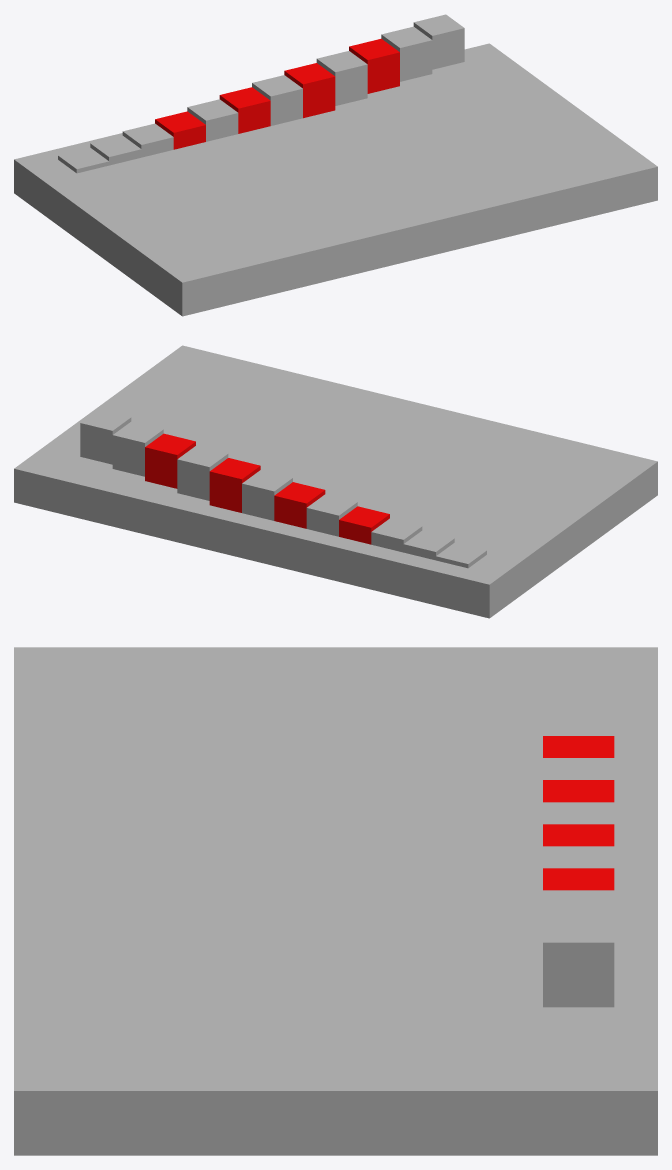
File: jump gym.glb
3 renders of one model, top to bottom at view 1: azimuth 30°, elevation 25°; view 2: azimuth 150°, elevation 25°; view 3: azimuth 270°, elevation 25°, orthographic. The views are drawn at different scales.
Parts seen in each view (by area): view 1: Cube; view 2: Cube; view 3: Cube.
Part boxes in pixels (x1=…): Cube: x1=14, y1=14, x2=657, y2=316; Cube: x1=14, y1=345, x2=657, y2=618; Cube: x1=14, y1=647, x2=657, y2=1155.
Size of the model in its own units: 29.43 by 5 by 18.05.
